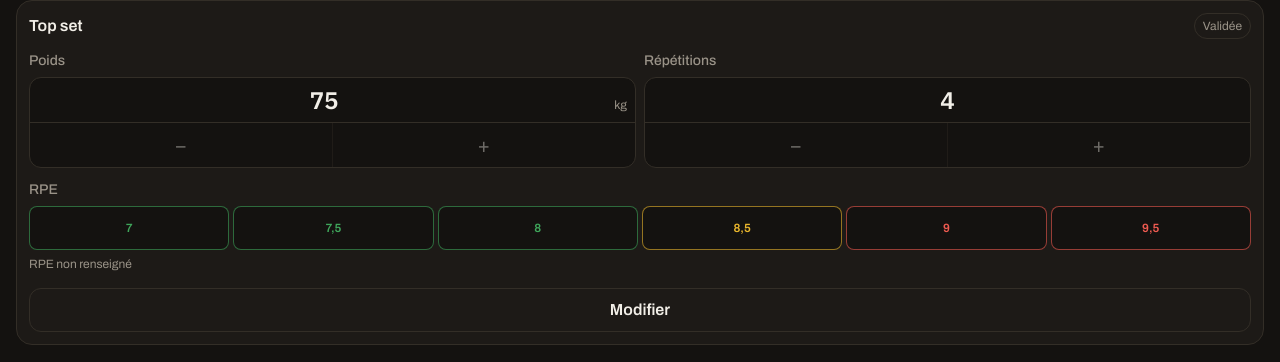
it: SetCard › permet de corriger une série validée avant finalisation
This screenshot has width=1280, height=362.
Step 1. Click the button "Modifier" → (640, 310), box [29,288,1251,332]
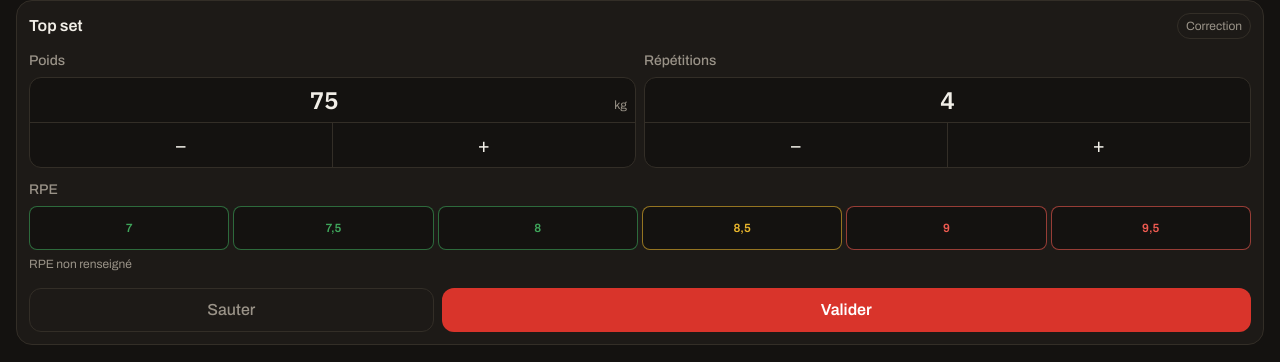
Step 2. Click the button named "Augmenter Poids de 2,5" → (484, 145), box [332,123,635,167]
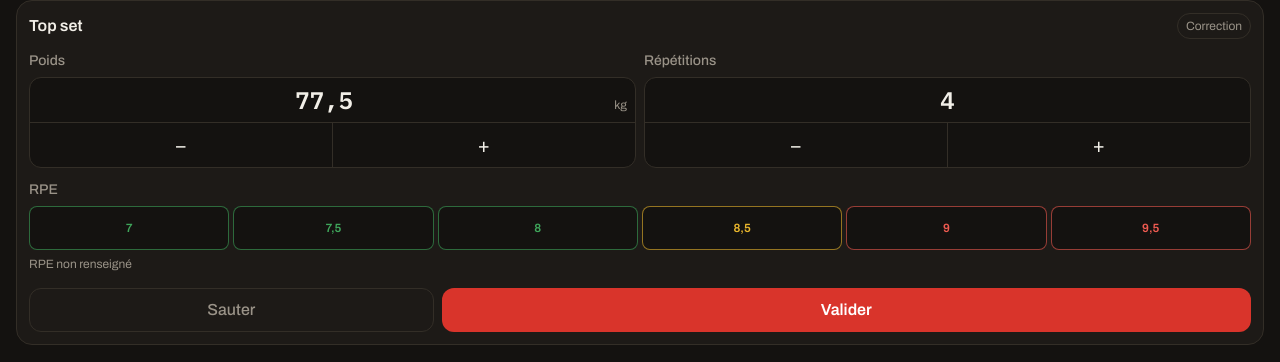
Now the text "Correction" is shown, box [1177,13,1251,39]
Now the field labelled "Poids" is enabled, box [38,78,610,122]
Now the field labelled "Poids" holds "77,5", box [38,78,610,122]
Step 3. Click the button "Valider" → (846, 310), box [442,288,1251,332]
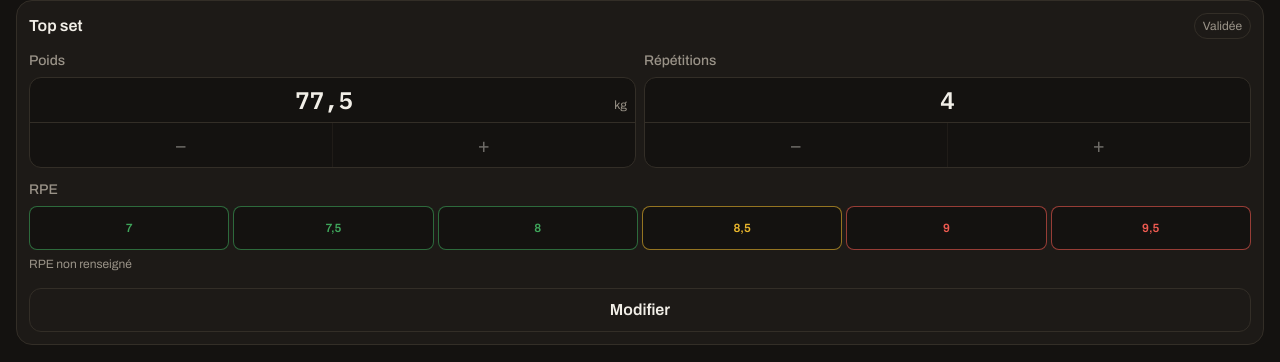
Now the text "Validée" is shown, box [1194,13,1251,39]
